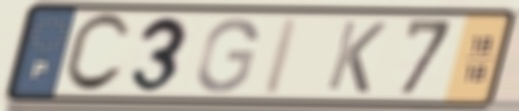3: (126, 12, 197, 96)
7: (400, 16, 457, 99)
C: (59, 10, 134, 96)
G: (193, 15, 262, 95)
I: (257, 14, 305, 98)
K: (322, 18, 391, 96)
